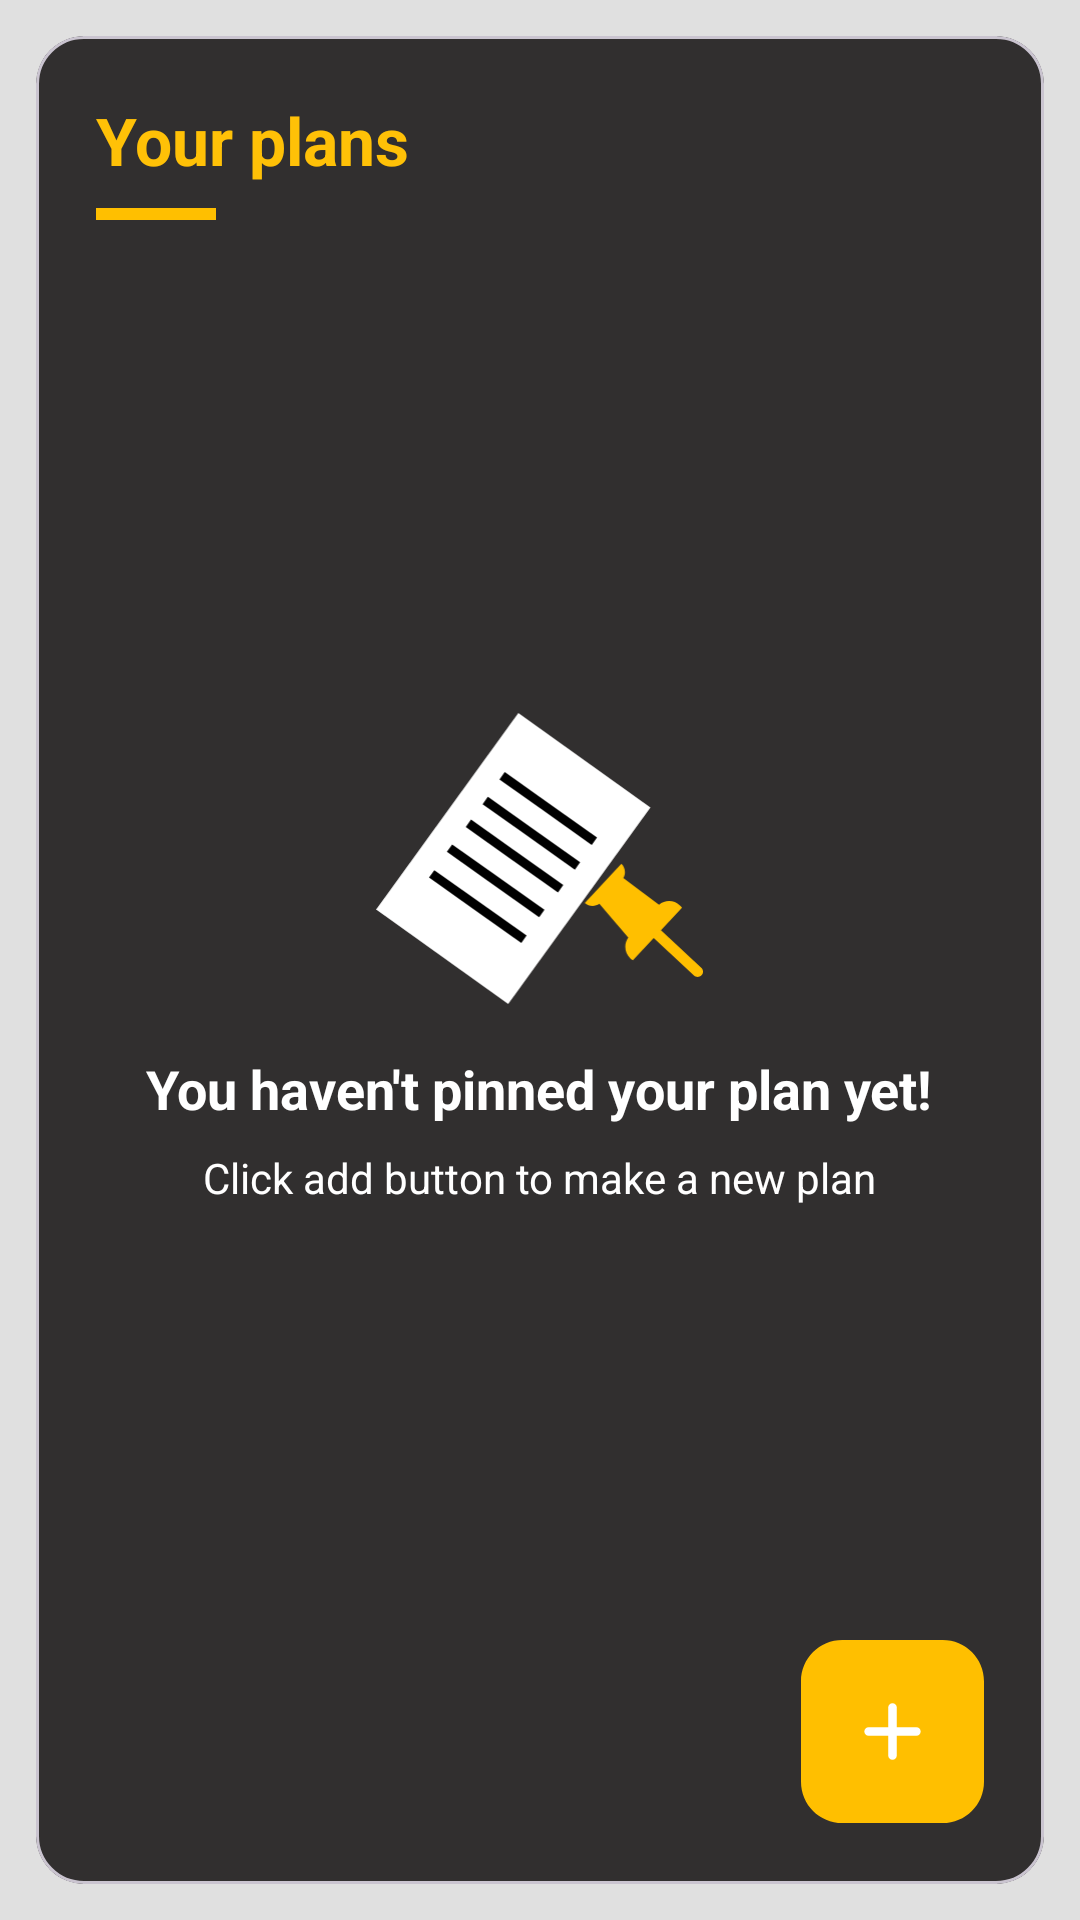

Icons on this 1080x1920 Android screen, each with the point to tap as [x,y]:
plusbutton: [892,1731]
